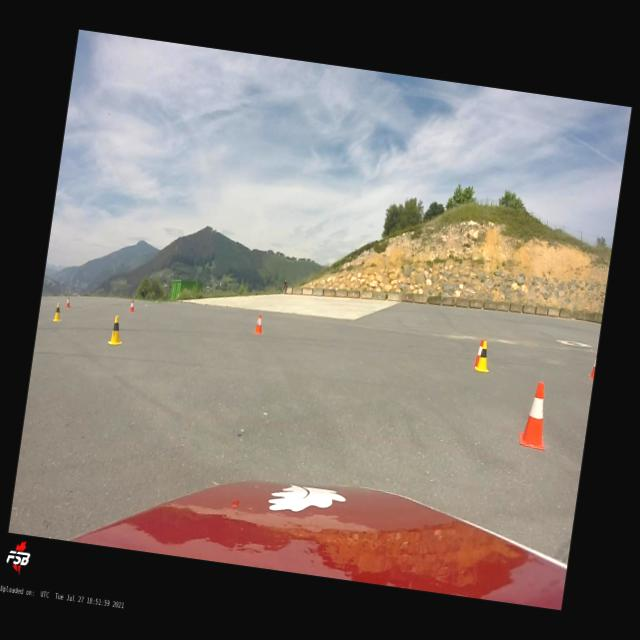orange_cone: (516, 380, 556, 450), (472, 338, 488, 368), (588, 352, 598, 381), (254, 312, 266, 334), (128, 300, 136, 313), (66, 296, 72, 310)
yellow_cone: (473, 338, 493, 374), (108, 314, 126, 346), (52, 302, 64, 322)
